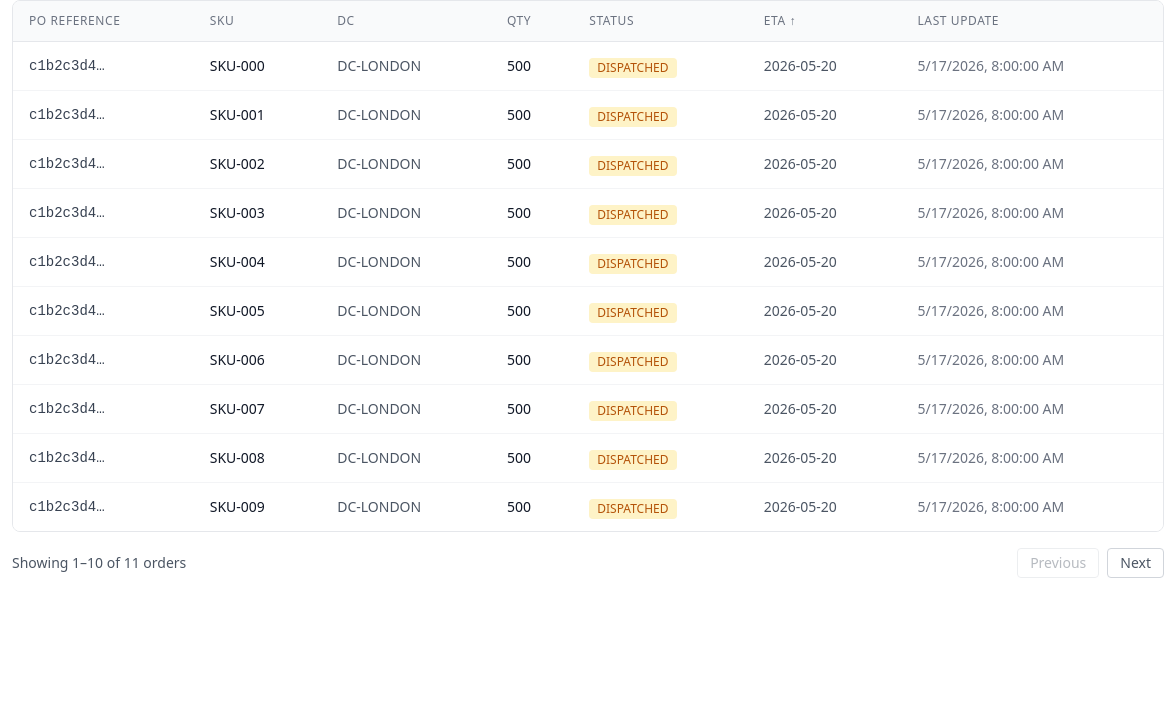
Test case: OrderListTab › pagination › navigates to next page and back
This screenshot has width=1176, height=720.
Click the button "Next" at [1136, 563], box x1=1107 y1=548 x2=1164 y2=578
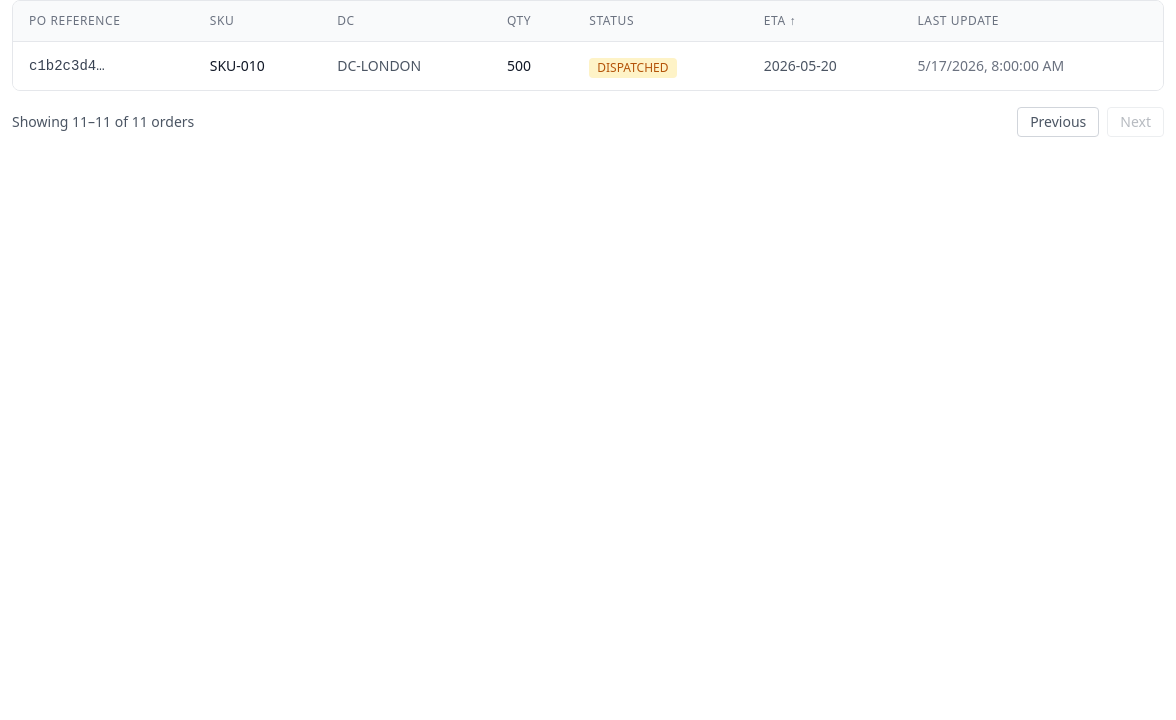
Expected: the button "Previous" is enabled
Expected: the text "Showing 11–11 of 11 orders" is shown, x1=12 y1=112 x2=194 y2=132
Click the button "Previous" at [1058, 122], box x1=1017 y1=107 x2=1099 y2=137
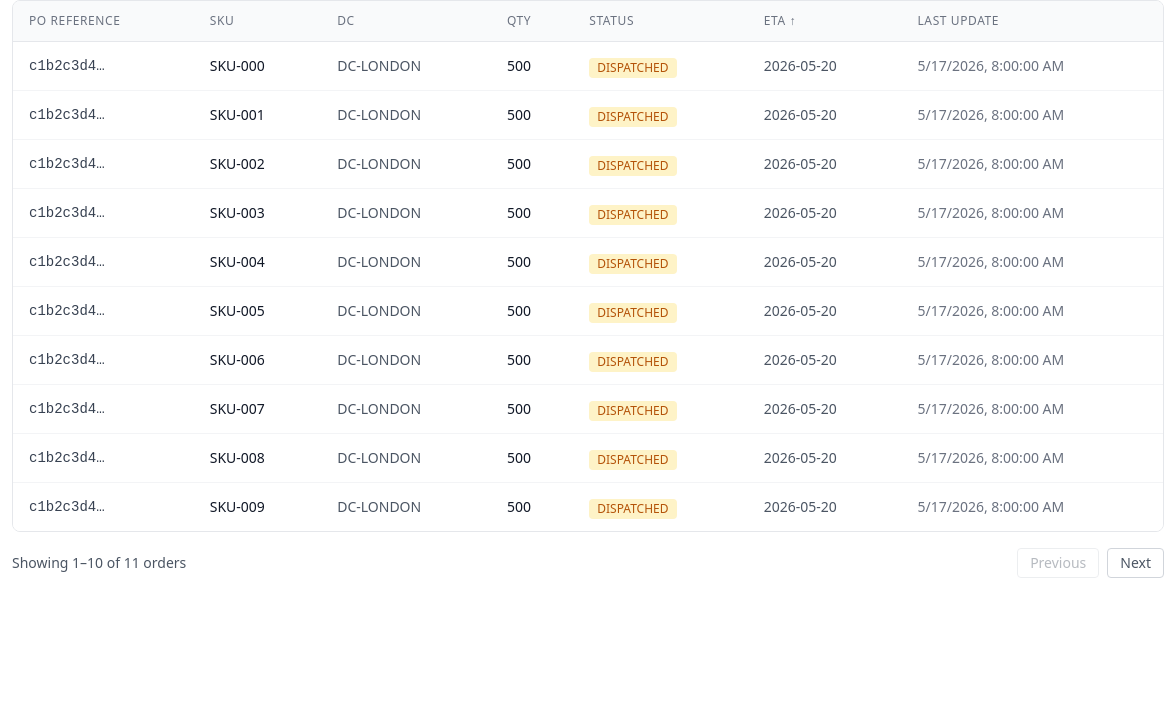
Expected: the text "Showing 1–10 of 11 orders" is shown, x1=12 y1=553 x2=186 y2=573
